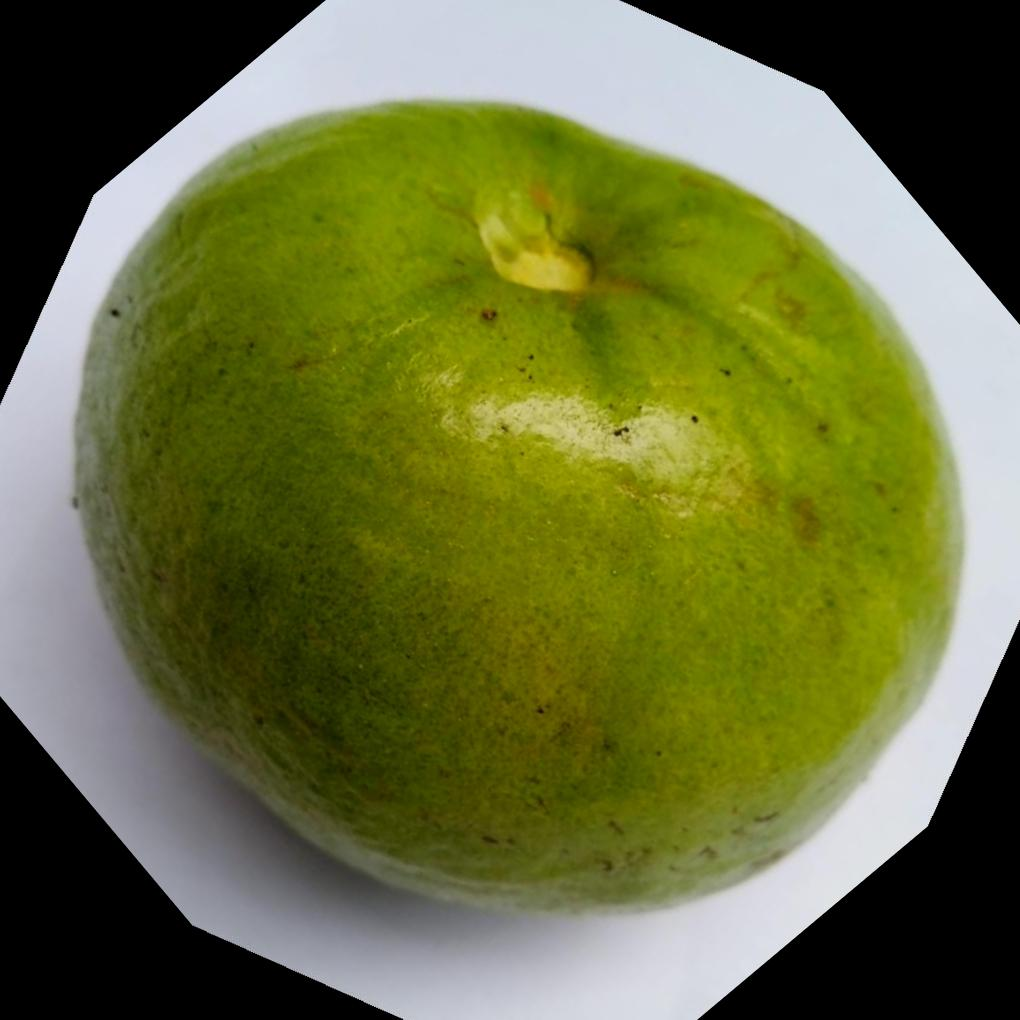FreshGuava: (71, 98, 969, 921)
